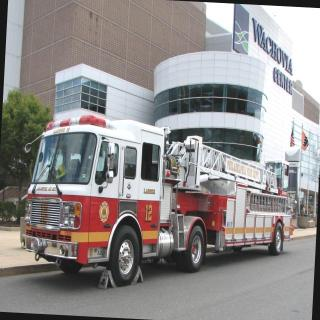Fire_truck: (17, 111, 300, 297)
